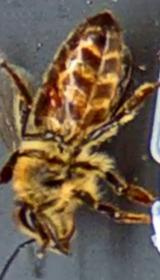varroa_mite: (33, 76, 72, 113)
